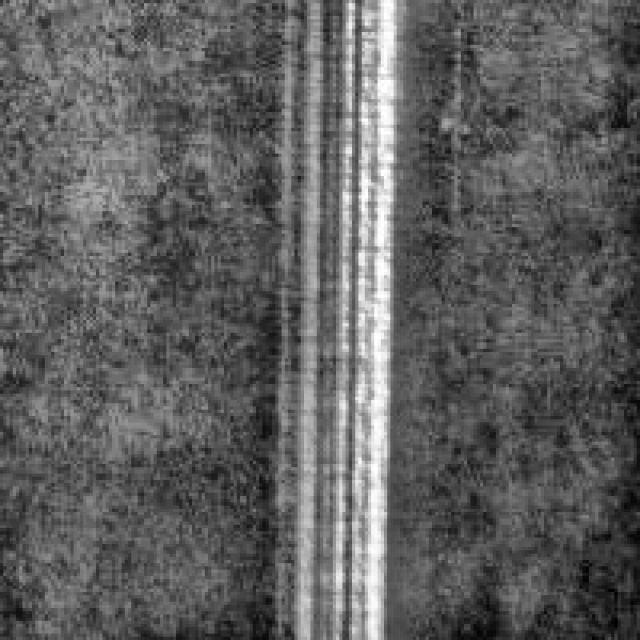Inclusion: (272, 0, 400, 634)
